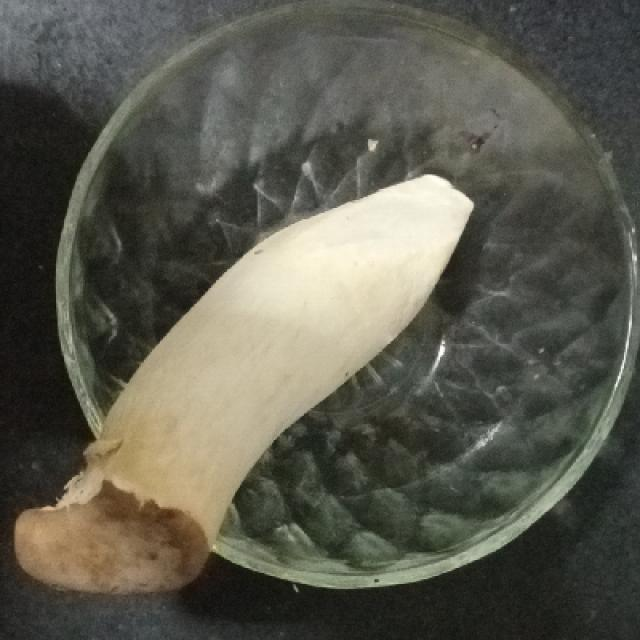Pleurotus eryngii: (17, 175, 475, 589)
